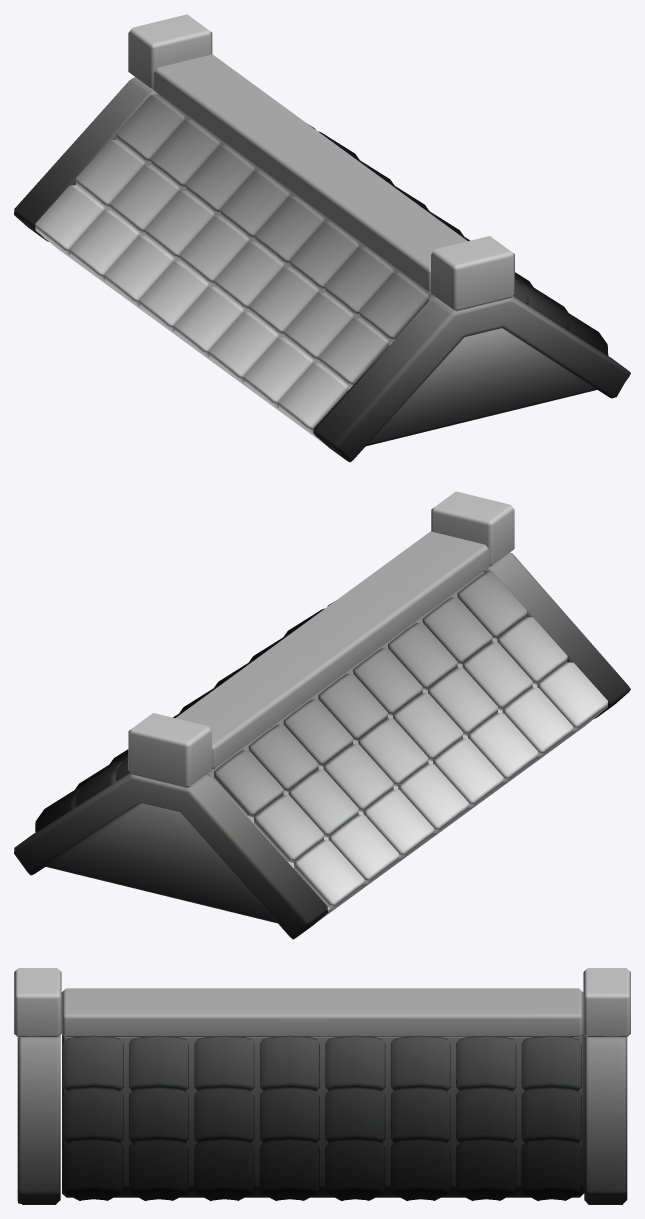
File: SM_Brick_Roof_03.fbx
3 renders of one model, top to bottom at view 1: azimuth 30°, elevation 25°; view 2: azimuth 150°, elevation 25°; view 3: azimuth 270°, elevation 25°, orthographic. The views are drawn at different scales.
Parts seen in each view (by area): view 1: SM_Brick_Roof_03; view 2: SM_Brick_Roof_03; view 3: SM_Brick_Roof_03.
Part boxes in pixels (x1,y1,x2,y2): SM_Brick_Roof_03: (14, 14, 630, 462); SM_Brick_Roof_03: (14, 491, 630, 939); SM_Brick_Roof_03: (14, 968, 630, 1204).
Size of the model in its own units: 1.1 by 0.6036 by 2.01.
